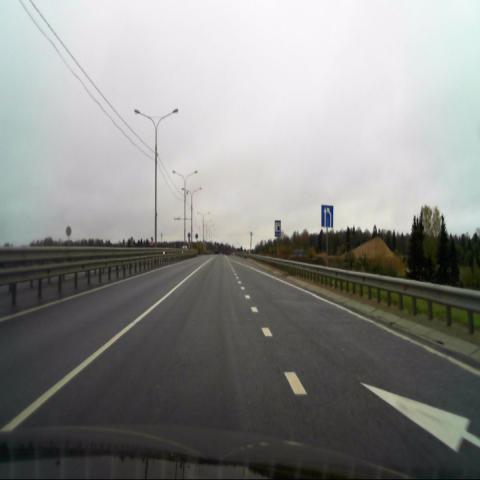5_15_5: (321, 204, 333, 227)
7_3: (275, 220, 281, 236)
